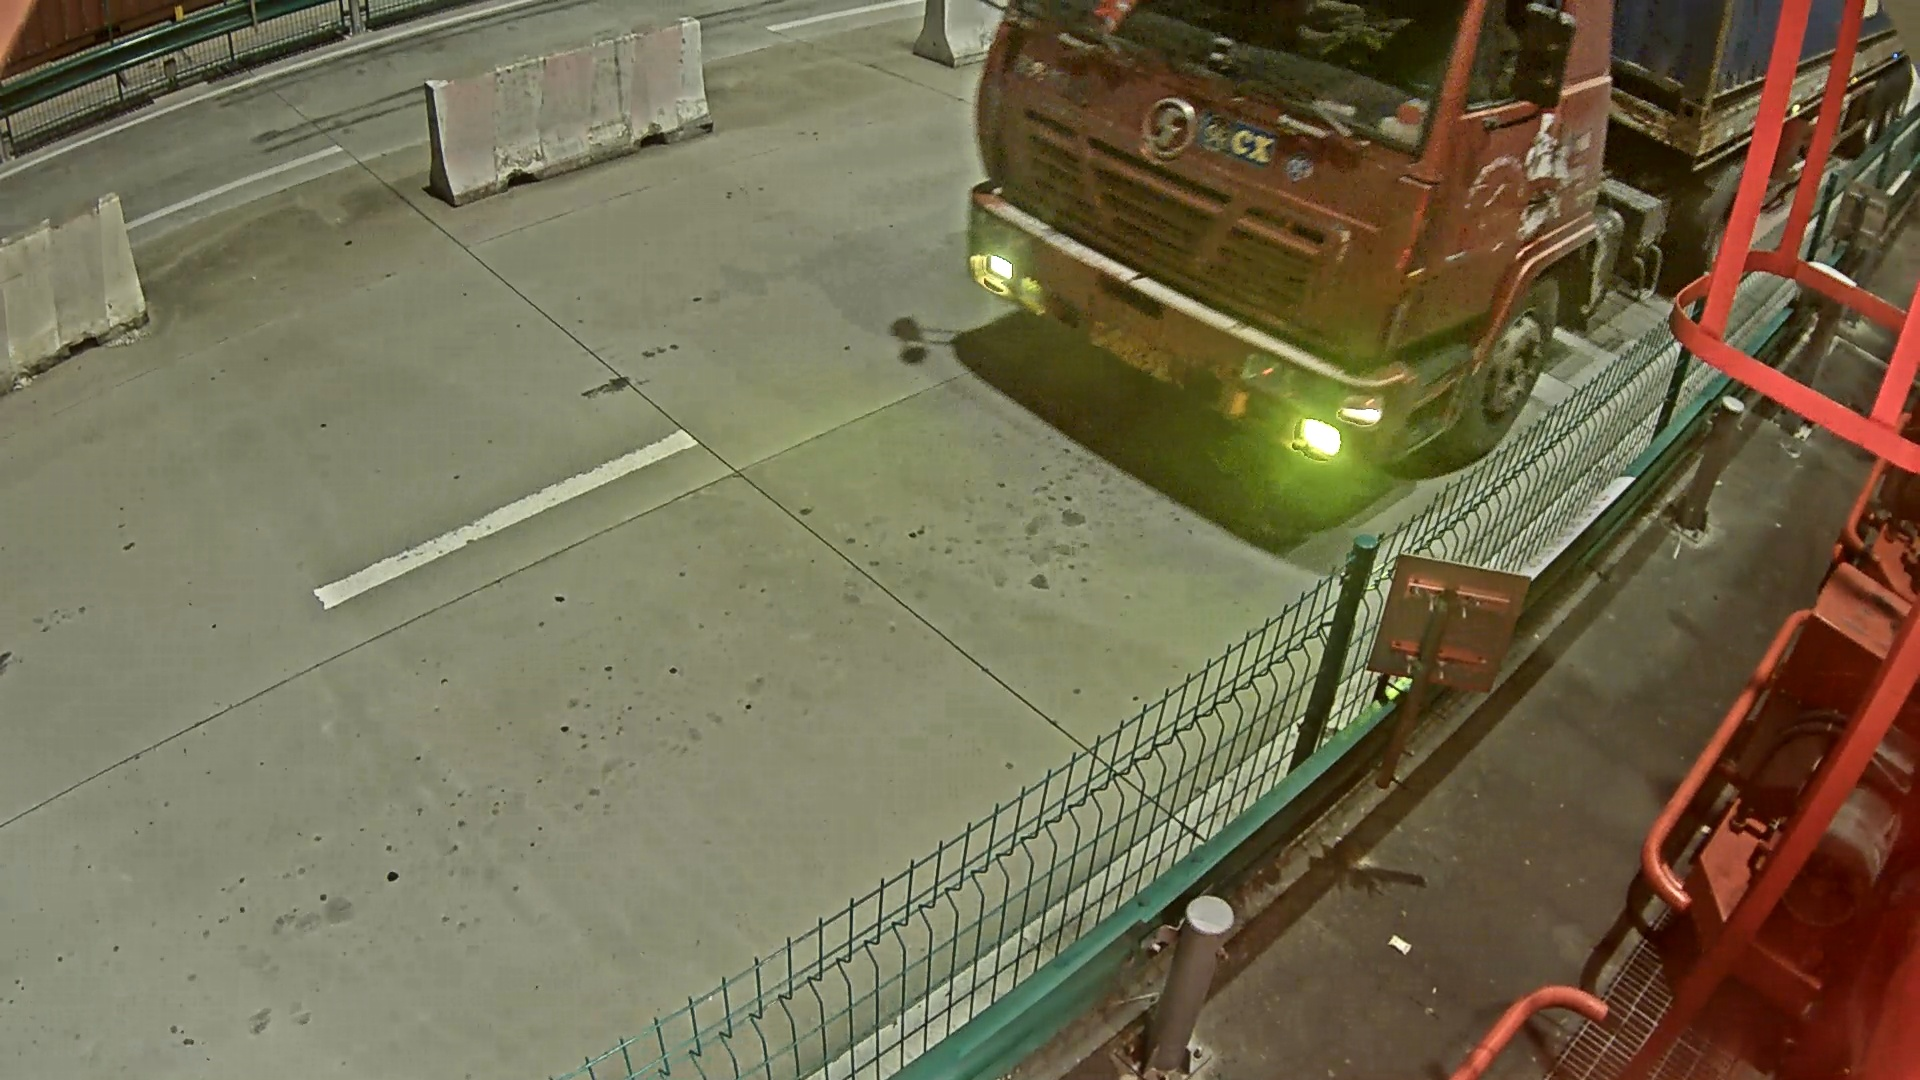head: (981, 17, 1596, 555)
plate: (1097, 313, 1187, 390)
